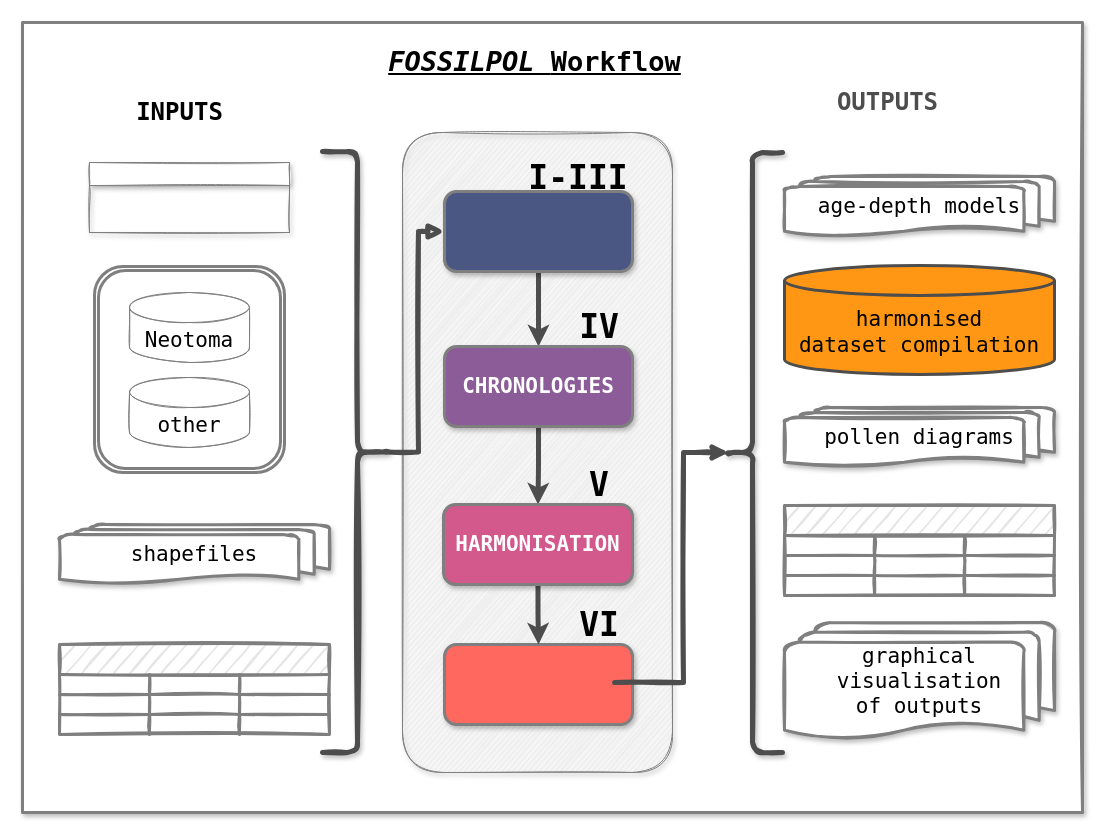
This 1107x838 diagram has some shape labels left out. The centre of each missing label's shape, as x and y in pixels:
citation metadata: (919,550)
config file: (190,199)
FILTERING: (539,685)
harmonisation tables: (194,689)
SOURCING: (539,233)
